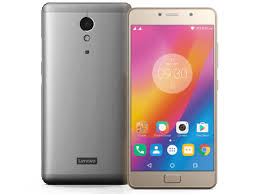lenovo: (123, 4, 219, 191), (41, 1, 137, 187)
